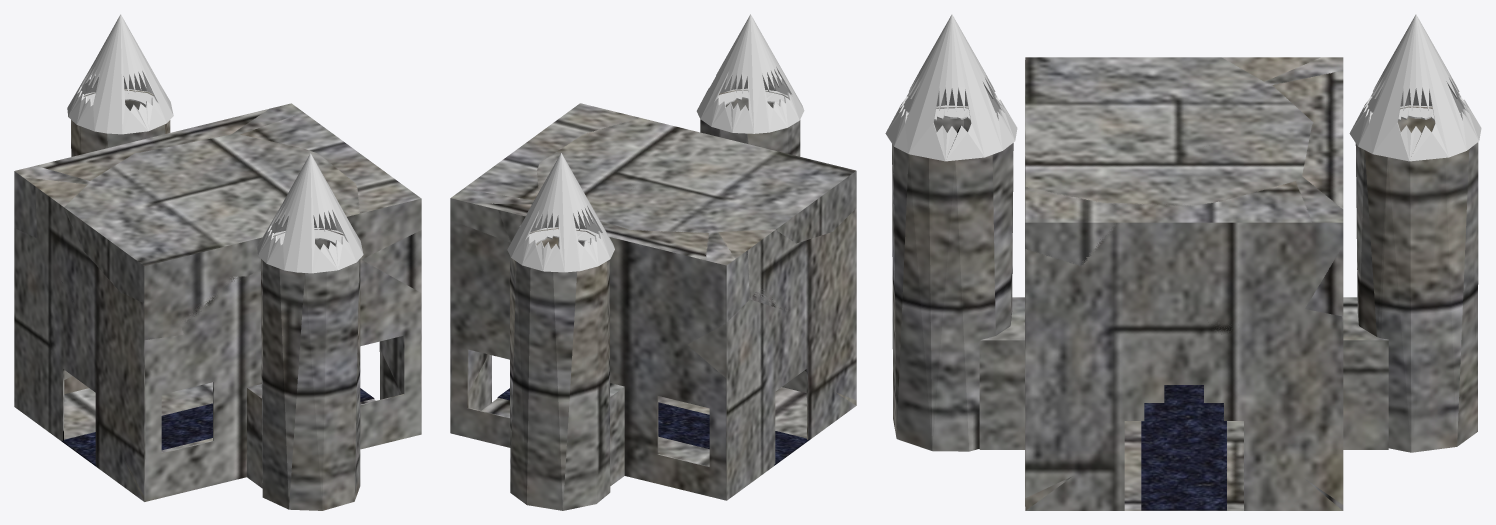
The model's file is castle.-2.dae.
3 renders of one model, left to right at view 1: azimuth 30°, elevation 25°; view 2: azimuth 150°, elevation 25°; view 3: azimuth 270°, elevation 25°, orthographic. The views are drawn at different scales.
Parts seen in each view (by area): view 1: Cube; view 2: Cube; view 3: Cube.
Part boxes in pixels (<box>): Cube: <box>14,14,421,510</box>; Cube: <box>450,14,856,510</box>; Cube: <box>885,14,1481,510</box>.
Bounding box in the file's own units: 0.2009 × 0.3057 × 0.2336.
Materials: 1 (1 with a texture image).
